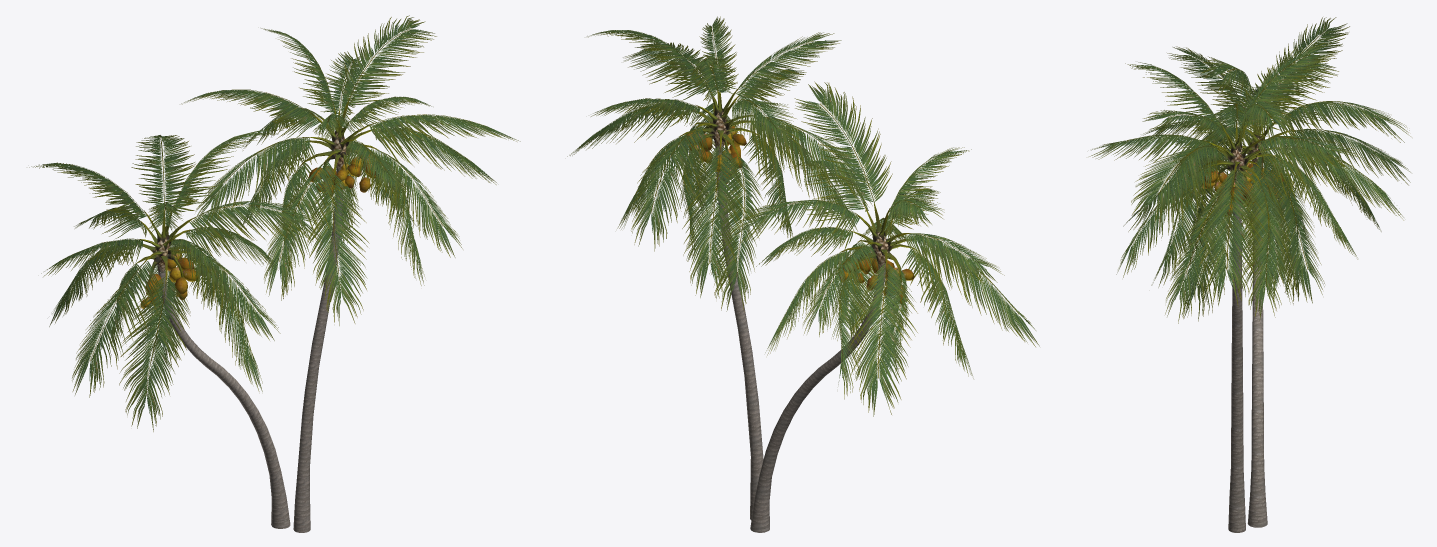
File: coconut.glb
The picture shows the model from 3 angles, left to right: view 1: azimuth 30°, elevation 25°; view 2: azimuth 150°, elevation 25°; view 3: azimuth 270°, elevation 25°; orthographic projection. The views are drawn at different scales.
Parts seen in each view (by area): view 1: Tree_2, Tree_0, Tree_3, Tree_4; view 2: Tree_2, Tree_0, Tree_3, Tree_4, Tree_1; view 3: Tree_2, Tree_0, Tree_3, Tree_4.
Part boxes in pixels (<box>): Tree_2: <box>29,15,520,431</box>; Tree_0: <box>158,170,343,532</box>; Tree_3: <box>132,97,378,295</box>; Tree_4: <box>140,153,375,308</box>; Tree_2: <box>567,16,1039,416</box>; Tree_0: <box>716,152,885,532</box>; Tree_3: <box>679,82,918,291</box>; Tree_4: <box>685,126,914,305</box>; Tree_1: <box>712,112,888,270</box>; Tree_2: <box>1089,17,1410,323</box>; Tree_0: <box>1228,200,1267,532</box>; Tree_3: <box>1204,112,1296,202</box>; Tree_4: <box>1202,162,1283,216</box>.
Size of the model in its own units: 6.3 by 6.28 by 4.02.
Materials: 5 (5 with a texture image).
